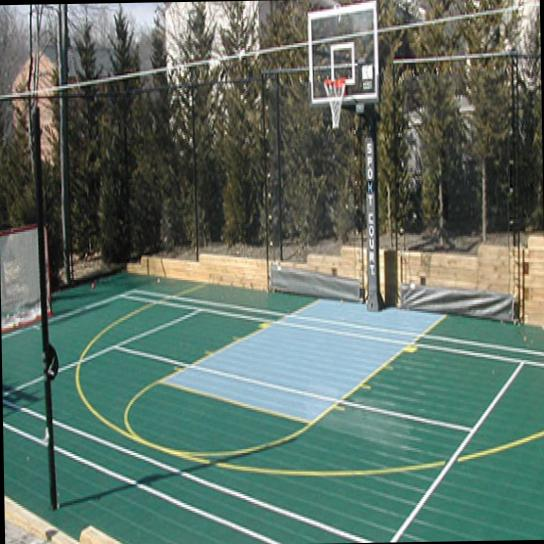basketball-hoop: (323, 79, 348, 130)
